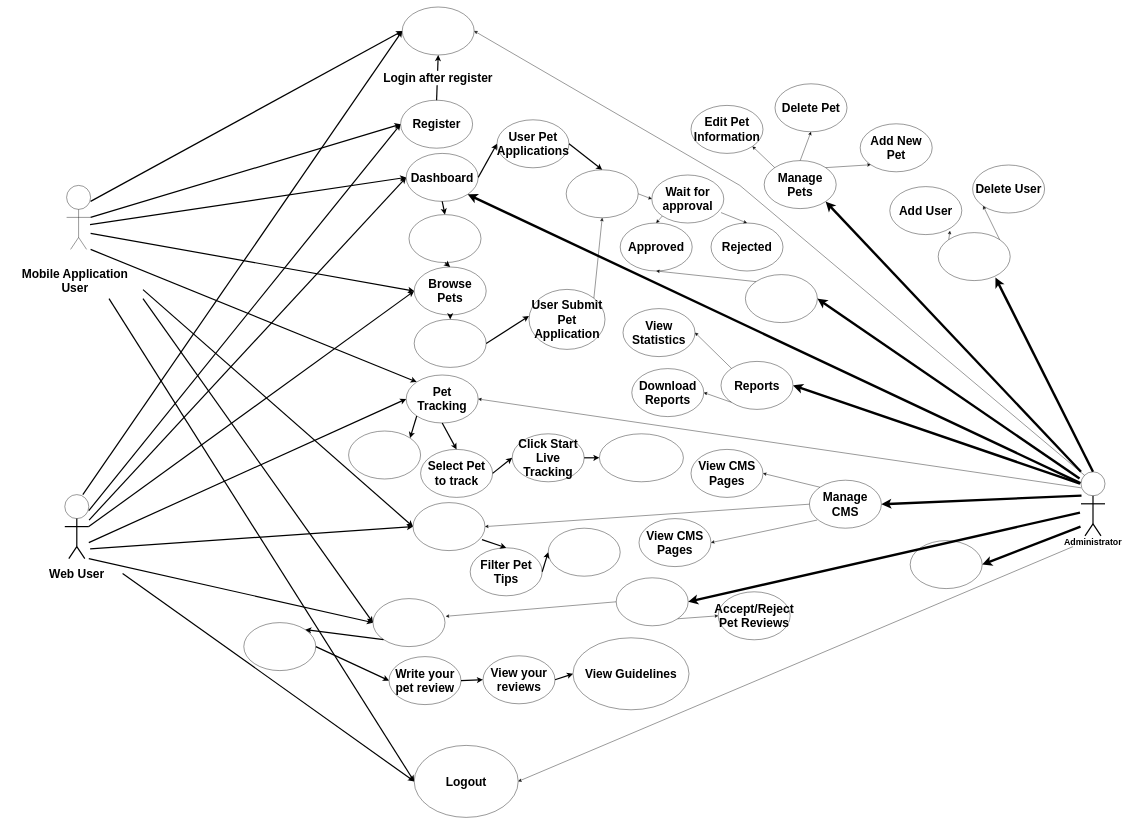
Some shapes in this 1128 by 824 pixel diagram are drawn without their labels. Here are the shapes that lost their labels. From the top down, the centre of each, then its label:
[438,31]: Login
[602,193]: User Active Applications
[445,238]: View Recommended pets
[974,256]: Manage Users
[781,298]: Review Applications
[450,343]: View Pets Details
[384,455]: Tracking History
[641,457]: View Map to view pet location
[449,526]: Pet Care Tips
[584,552]: View Pet Care tips
[946,564]: Security Logs
[652,601]: Moderate Reviews
[409,622]: Reviews & Feedback
[279,646]: Available for review pets
